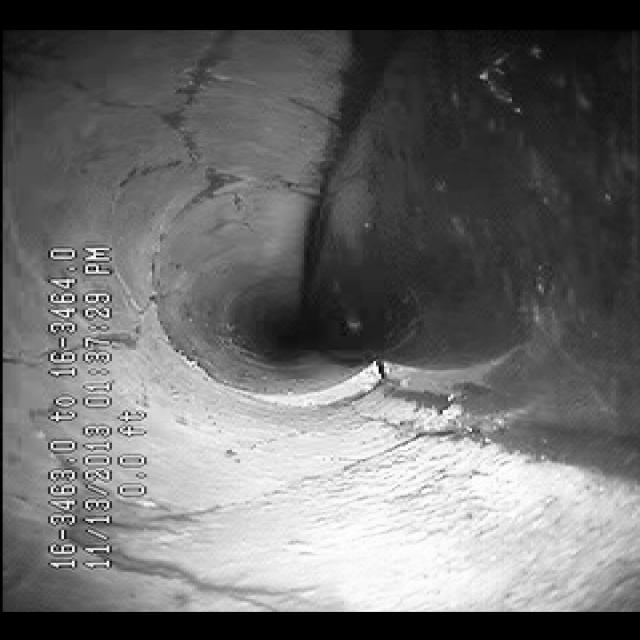Fracture: (168, 394, 464, 530), (58, 44, 274, 222)
